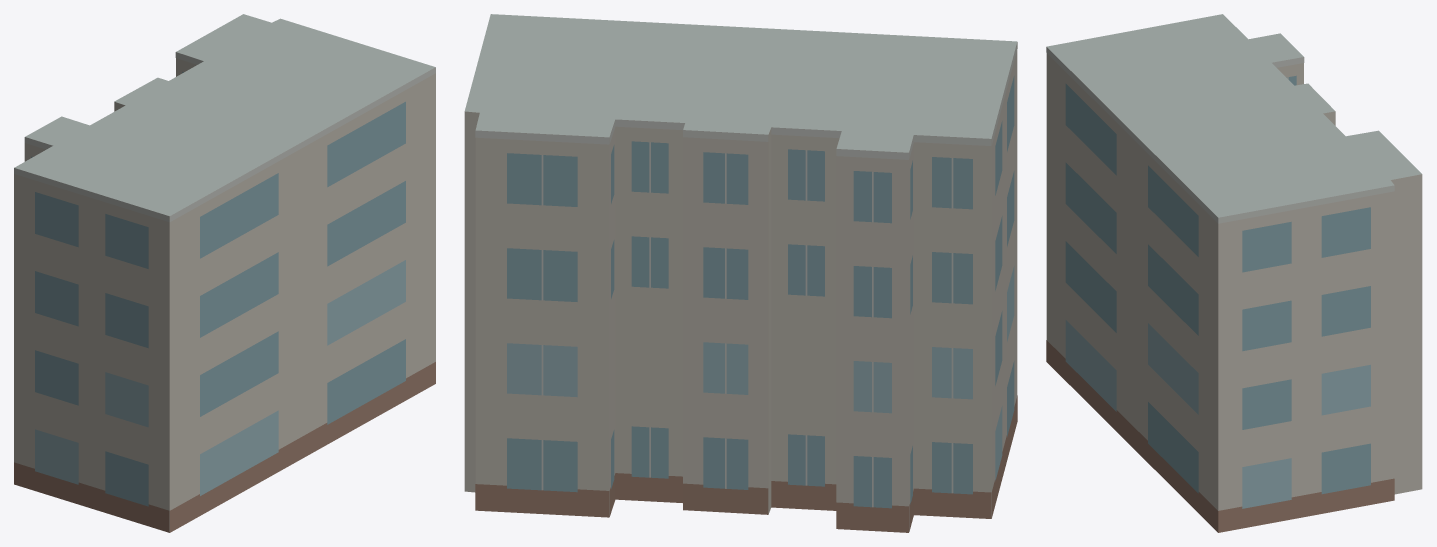
File: survey-upis-32703432.glb
3 renders of one model, left to right at view 1: azimuth 30°, elevation 25°; view 2: azimuth 150°, elevation 25°; view 3: azimuth 270°, elevation 25°, orthographic. The views are drawn at different scales.
Visible parts, largest first — view 1: survey-upis-32703432.tmp; view 2: survey-upis-32703432.tmp; view 3: survey-upis-32703432.tmp.
Part boxes in pixels (x1,y1,x2,y2): survey-upis-32703432.tmp: (14,14,435,532); survey-upis-32703432.tmp: (464,14,1017,532); survey-upis-32703432.tmp: (1046,14,1422,532).
Size of the model in its own units: 17.76 by 12.8 by 13.85.
